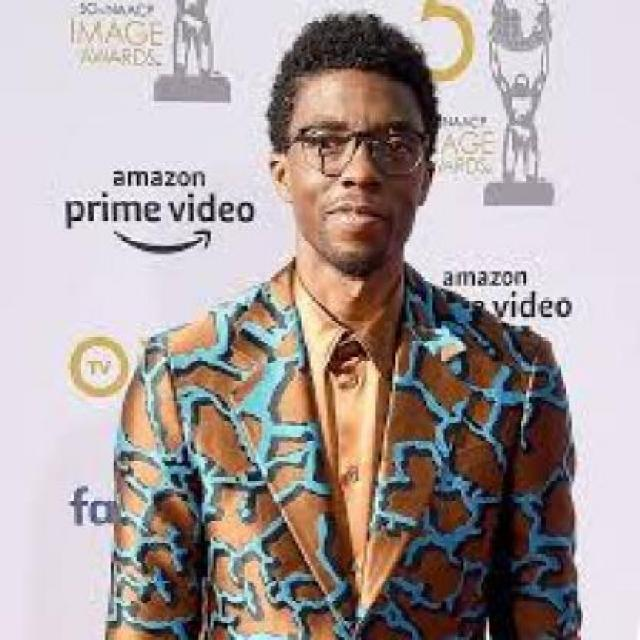mask: (290, 114, 444, 183)
